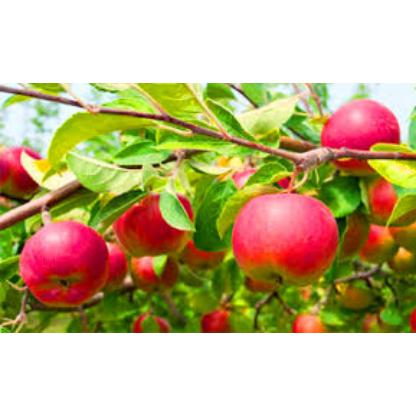apple: (233, 188, 335, 276), (21, 218, 103, 306), (316, 93, 402, 173), (116, 186, 188, 252), (361, 181, 414, 227), (0, 142, 41, 193)
